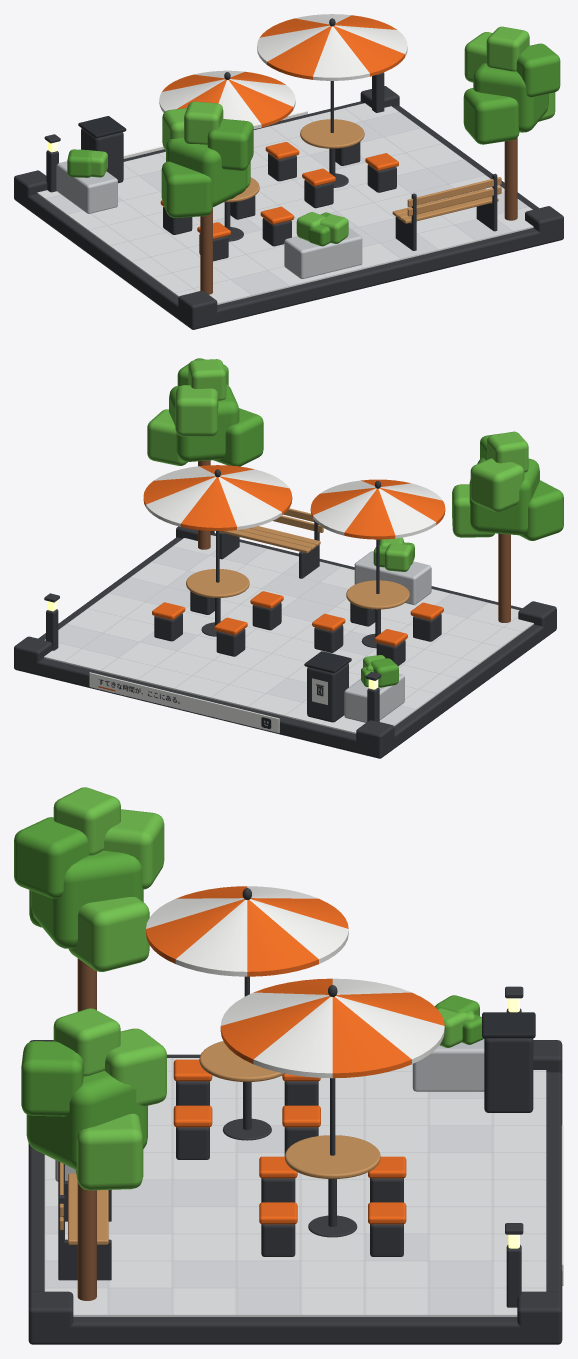
Rendered from hakoniwa-open-space-simple.glb.
The picture shows the model from 3 angles, top to bottom: view 1: azimuth 30°, elevation 25°; view 2: azimuth 150°, elevation 25°; view 3: azimuth 270°, elevation 25°; orthographic projection. The views are drawn at different scales.
Bounding box in the file's own units: 6.4 × 3.1 × 5.15.
14 materials, 3 textured.
